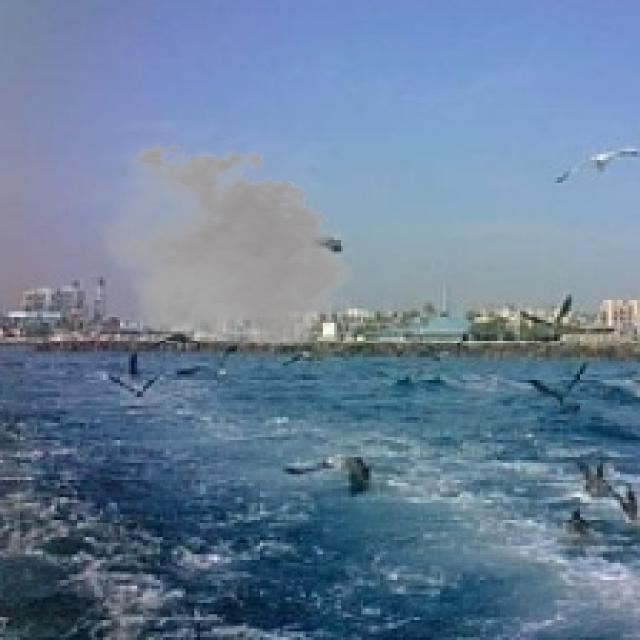smoke: (88, 137, 363, 354)
